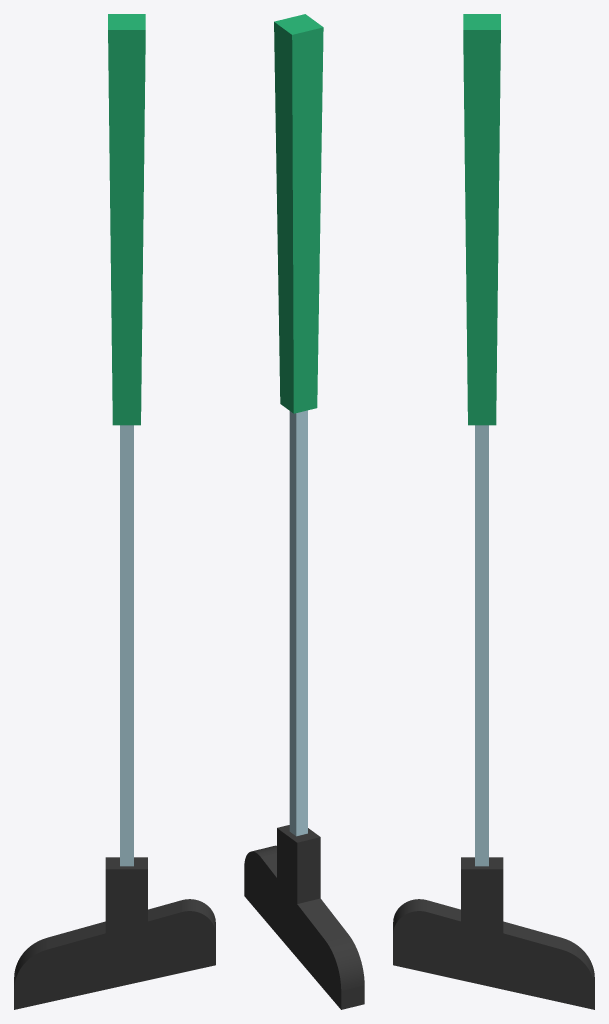
Rendered from club_green.fbx.
3 views of the same model, side by side, from view 1: azimuth 90°, elevation 25°; view 2: azimuth 210°, elevation 25°; view 3: azimuth 270°, elevation 25° (orthographic). The views are drawn at different scales.
Parts seen in each view (by area): view 1: club_green; view 2: club_green; view 3: club_green.
Part boxes in pixels (<box>): club_green: <box>14,14,215,1009</box>; club_green: <box>244,14,364,1009</box>; club_green: <box>393,14,594,1009</box>.
Bounding box in the file's own units: 0.3453 × 9.9 × 1.84.
